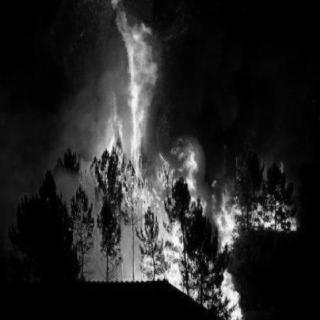Smoke: (171, 10, 311, 152)
